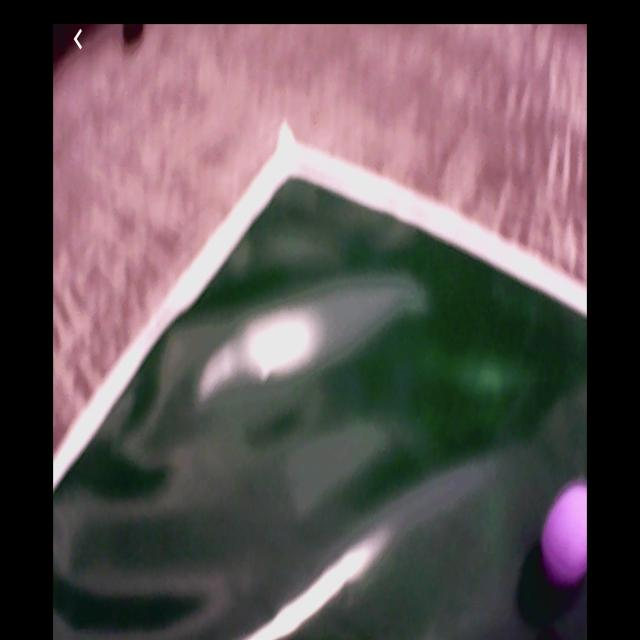ball: (543, 484, 589, 587)
